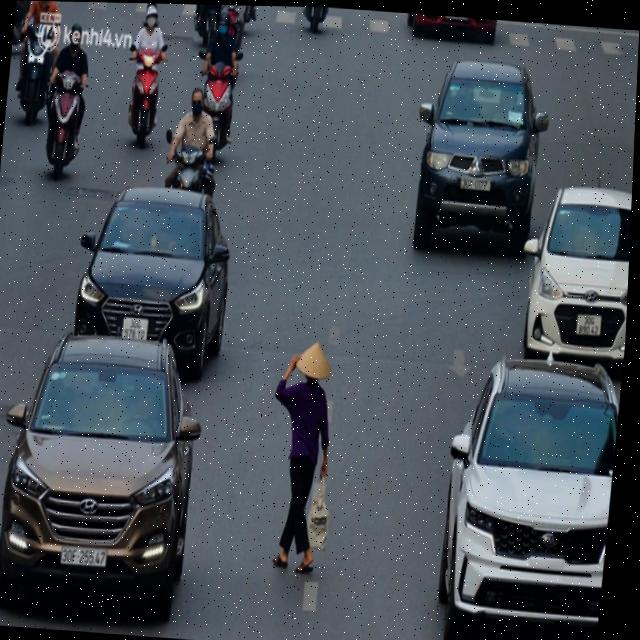car: (0, 328, 212, 623), (431, 350, 624, 640), (62, 181, 239, 381), (407, 55, 557, 259), (512, 177, 633, 371)
motorcycle: (37, 70, 90, 180), (118, 41, 169, 150), (192, 53, 245, 157), (13, 18, 55, 123), (165, 144, 216, 222)
